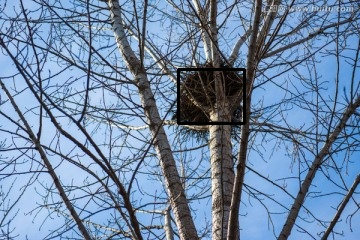bird-nest: (178, 69, 244, 123)
